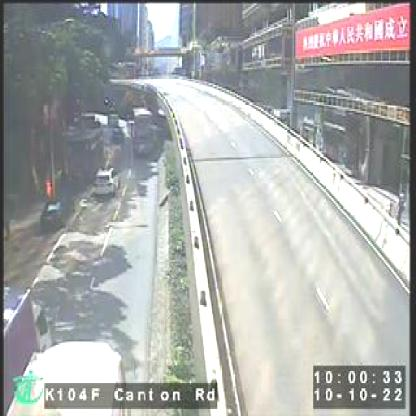Bus: (133, 108, 156, 158)
Car: (40, 197, 76, 233), (95, 168, 116, 196)
